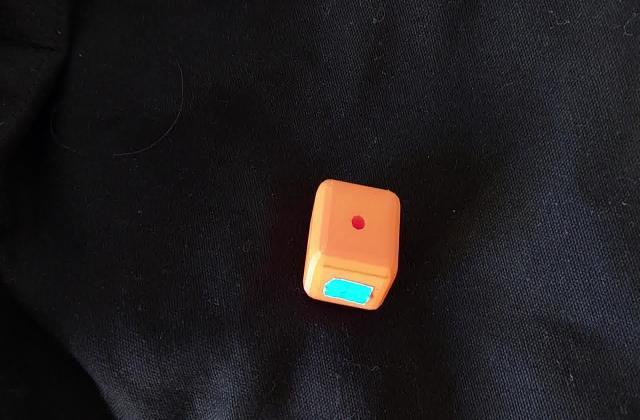blue: (335, 282, 355, 297)
cube: (300, 175, 404, 314)
